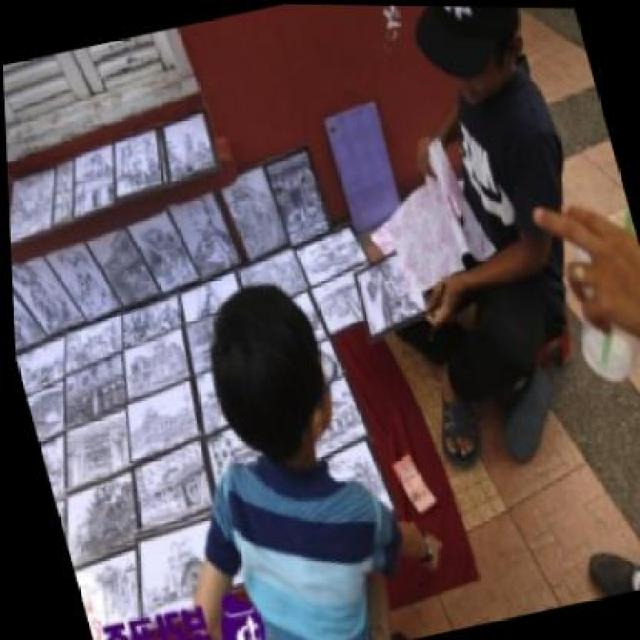hat: (398, 5, 542, 86)
